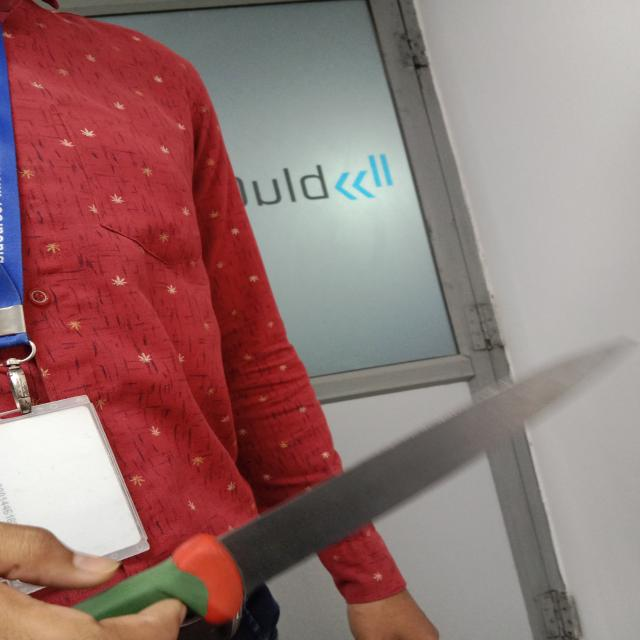Knife: (73, 337, 635, 626)
